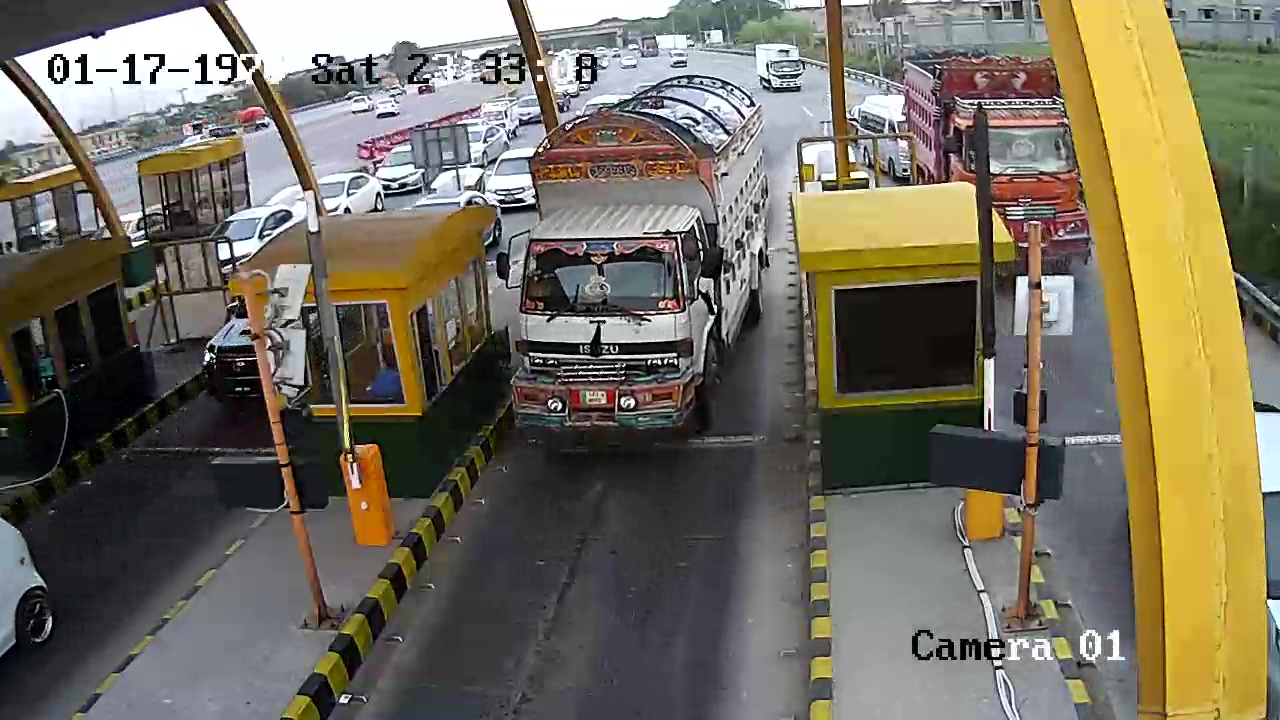F5: (511, 68, 778, 441)
